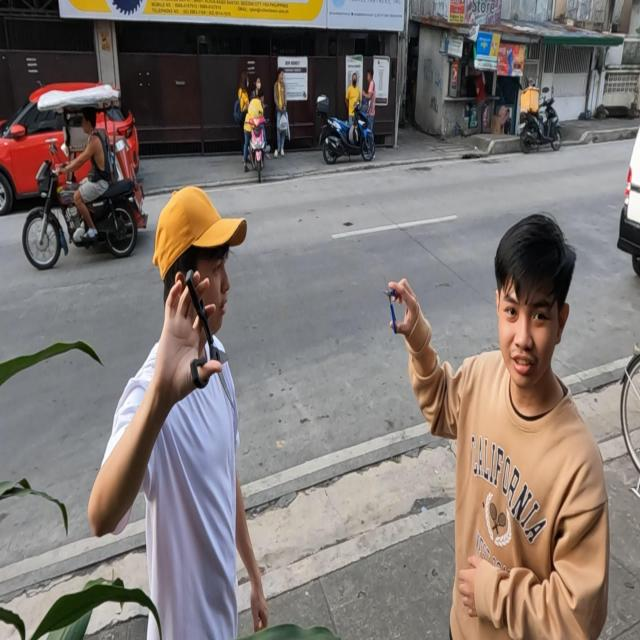scissor: (185, 268, 236, 412), (382, 274, 401, 334)
